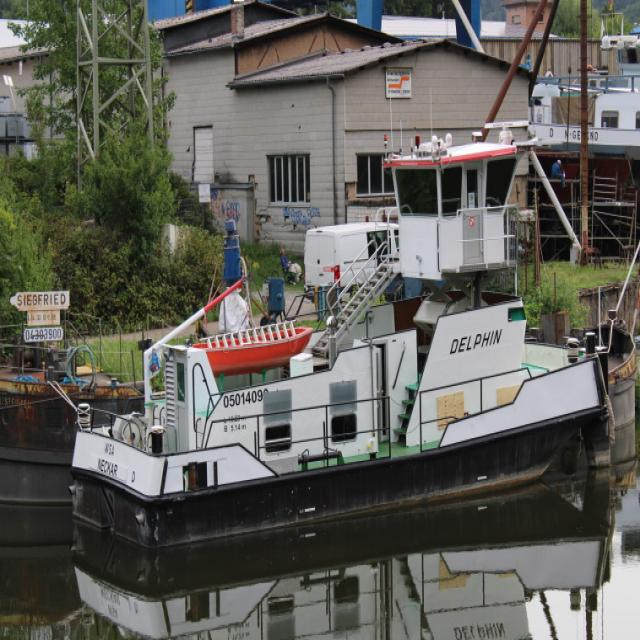tugboat: (65, 113, 617, 571)
